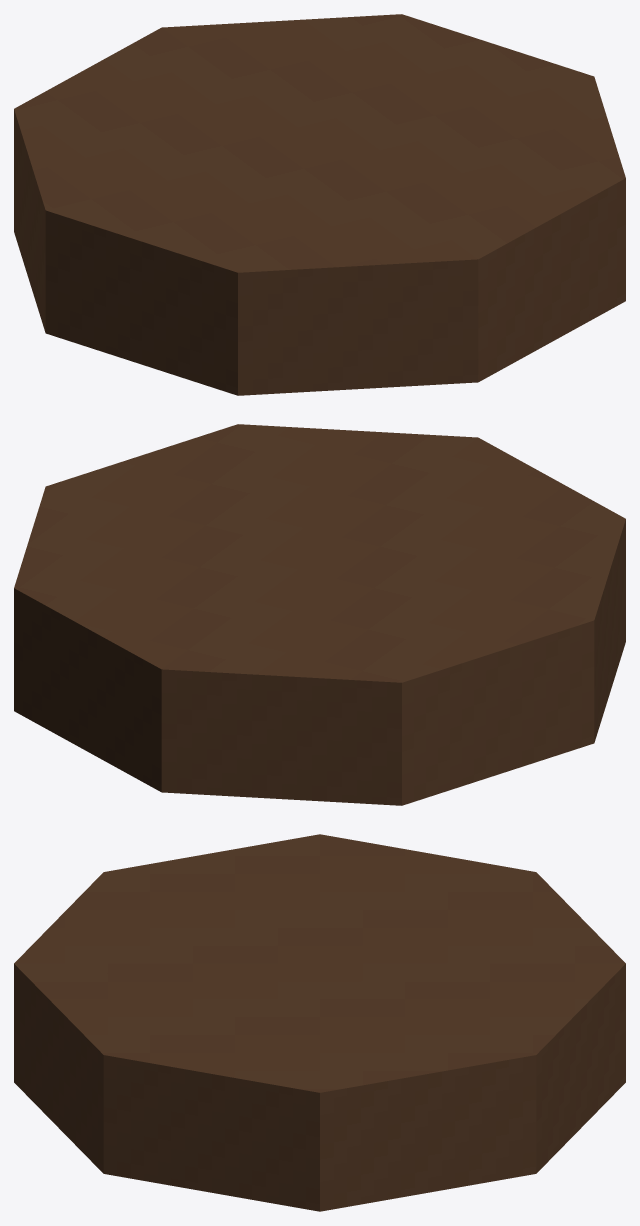
The model's file is juice_table_ram.obj.
3 views of the same model, one above another, from view 1: azimuth 30°, elevation 25°; view 2: azimuth 150°, elevation 25°; view 3: azimuth 270°, elevation 25° (orthographic). The views are drawn at different scales.
Parts seen in each view (by area): view 1: part_32_rounded_eight_sided_pressing_plate; view 2: part_32_rounded_eight_sided_pressing_plate; view 3: part_32_rounded_eight_sided_pressing_plate.
Part boxes in pixels (x1,y1,x2,y2): part_32_rounded_eight_sided_pressing_plate: [14, 14, 625, 395]; part_32_rounded_eight_sided_pressing_plate: [14, 424, 625, 805]; part_32_rounded_eight_sided_pressing_plate: [14, 834, 625, 1211].
Size of the model in its own units: 0.2625 by 0.0562 by 0.2625.
